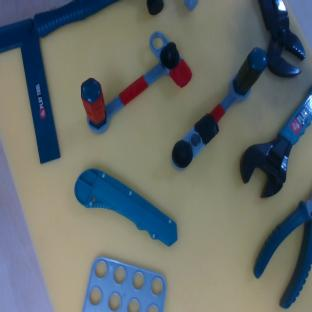non_pass: (164, 44, 276, 174)
pass: (64, 26, 196, 137)
